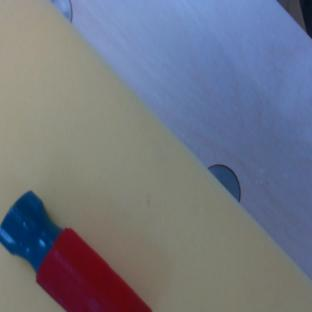part_2_good: (0, 187, 153, 312)
